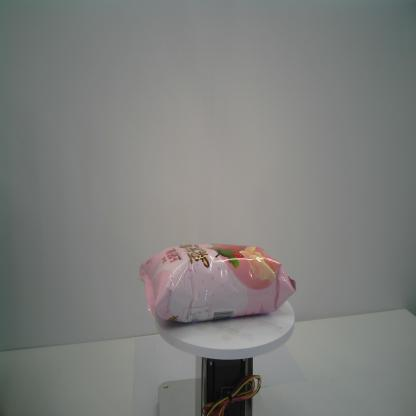Puffed Food: (138, 243, 297, 324)
